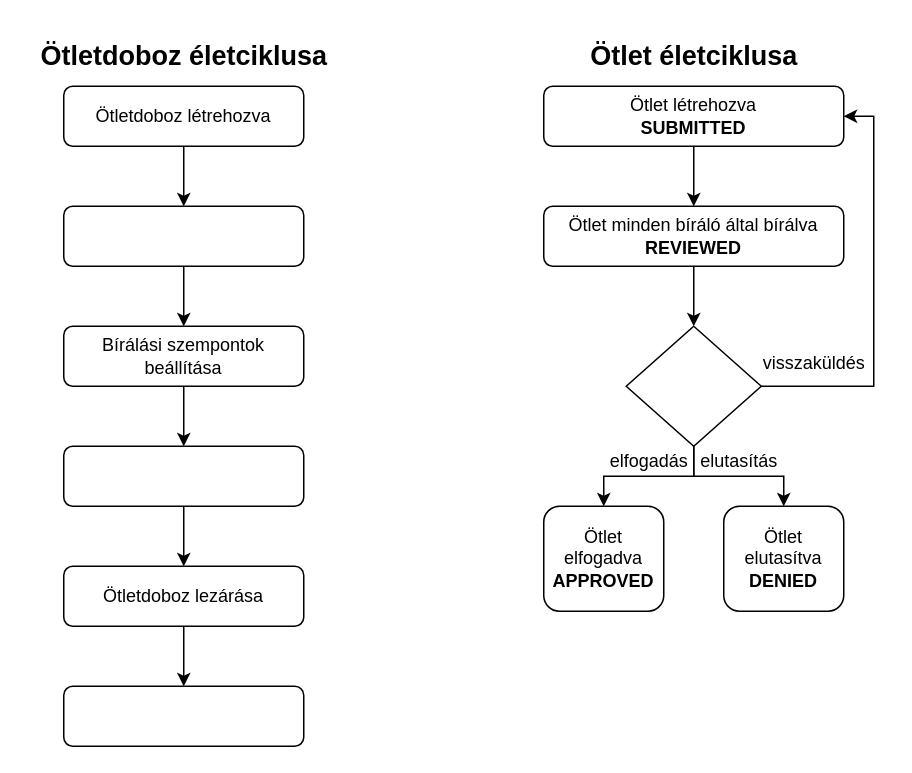
The diagram is 912 pixels wide and 773 high, and some of its shapes have lost their labels. The shapes that lost their labels are listed below. From the top down, each one's centre as x and y in pixels, then its label:
(x=183, y=235): Kötelező bírálók beállítása
(x=693, y=385): Döntés az admin által
(x=183, y=475): Beárkező ötletek bírálása
(x=183, y=715): Eredmények
